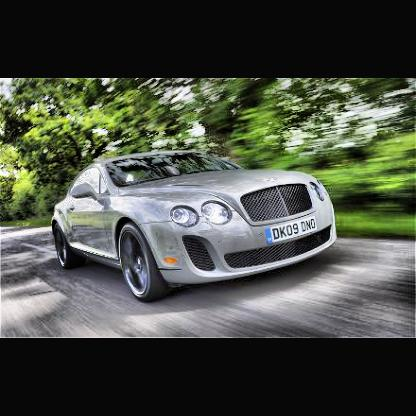Bentley Continental Supersports Conv- Convertible 2012: (52, 150, 340, 305)
